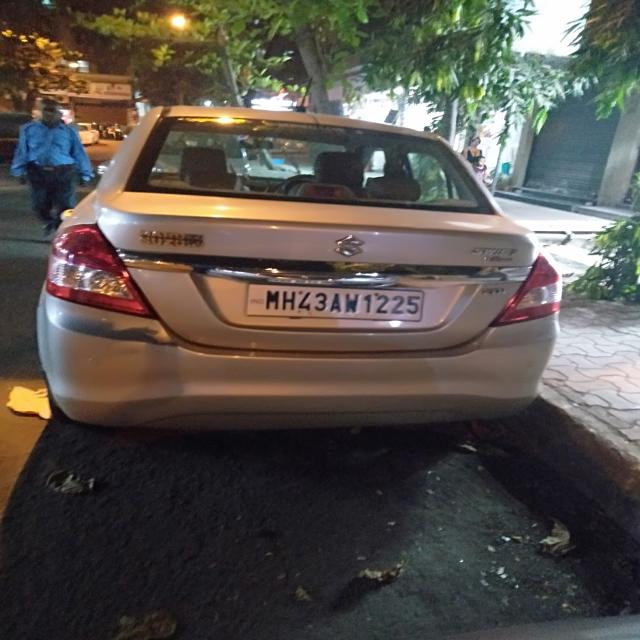Number-Plate: (254, 285, 429, 320)
